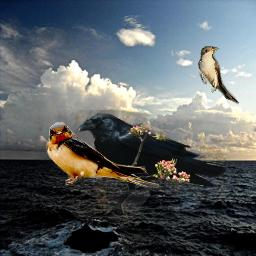Crow: (72, 110, 226, 213)
Cuckoo: (198, 46, 239, 106)
Swallow: (45, 122, 159, 192)
